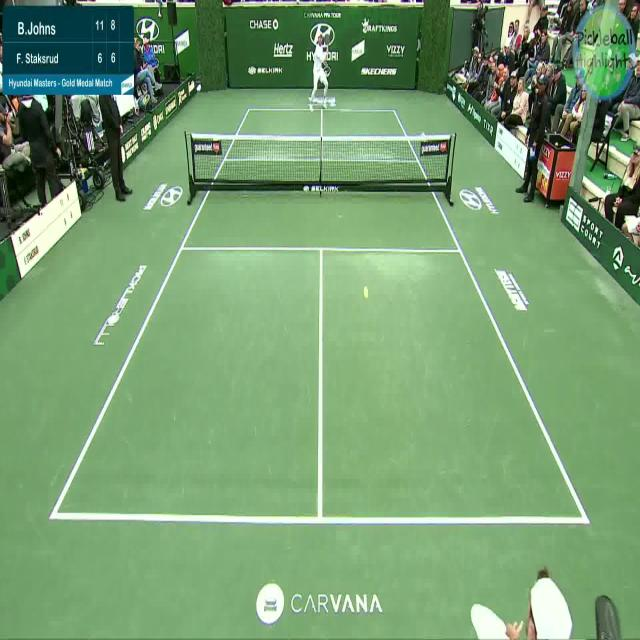ball: (360, 278, 371, 304)
